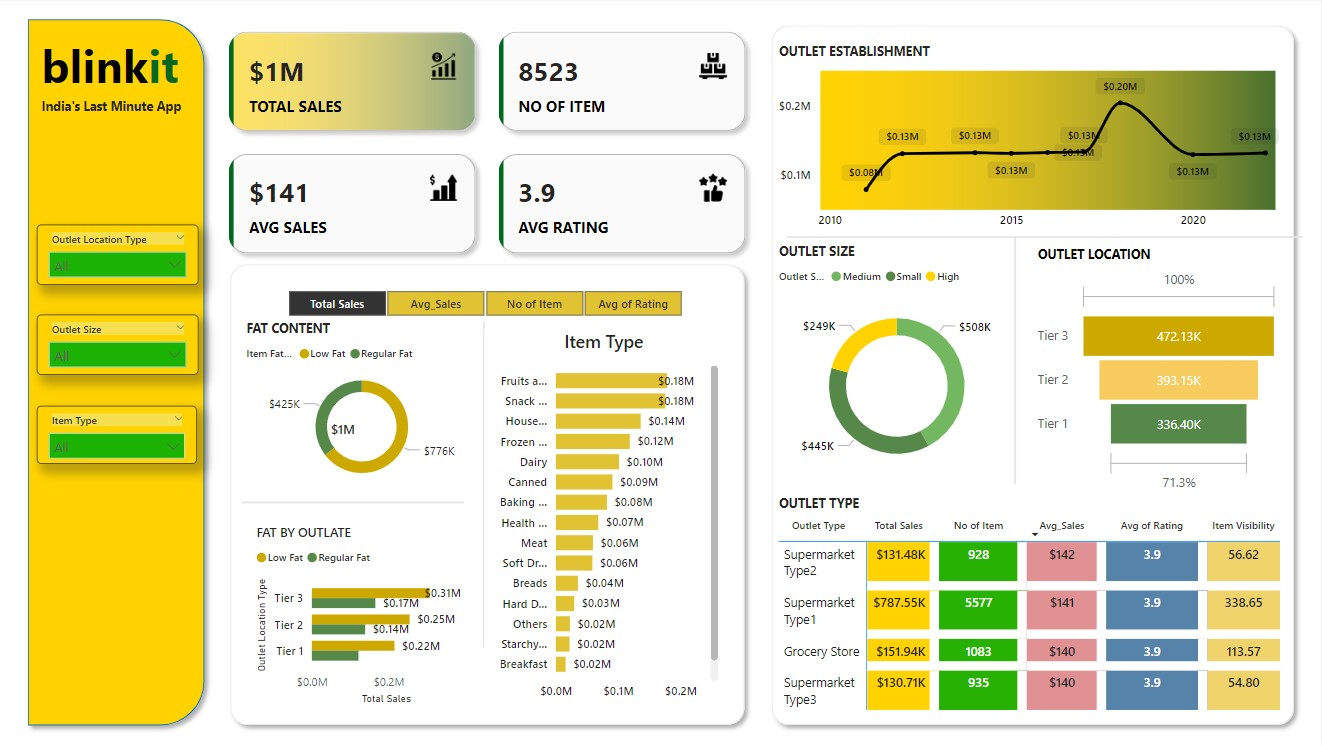

The dashboard page shown, as its layout file describes it:
{"tool":"powerbi","page":{"name":"Dashboard","canvas":[1400,800],"ordinal":0},"visuals":[{"type":"shape","box":[23,14.1,205,765.3],"z":0},{"type":"textbox","box":[41.4,34.3,187.1,134.3],"z":1000},{"type":"textbox","box":[41.4,101.4,171.4,37.1],"z":2000},{"type":"cardVisual","fields":{"Data":["BlinkIT Grocery Data.Total Sales","BlinkIT Grocery Data.No of Item","BlinkIT Grocery Data.Avg_Sales","BlinkIT Grocery Data.Avg of Rating"]},"box":[228,19.4,581.5,268.6],"z":3000},{"type":"shape","box":[236.8,273.9,562,505.5],"z":4000},{"type":"donutChart","title":"FAT CONTENT","fields":{"Y":["BlinkIT Grocery Data.Total Sales"],"Category":["BlinkIT Grocery Data.Item Fat Content"]},"box":[258,341.1,254.5,182],"z":5000},{"type":"slicer","fields":{"Values":["Metrics.Metrics"]},"box":[281.4,304.3,465.7,40],"z":6000},{"type":"cardVisual","fields":{"Data":["BlinkIT Grocery Data.Total Sales"]},"box":[322.9,431.1,84.3,38.2],"z":7000},{"type":"clusteredBarChart","title":"FAT BY OUTLATE","fields":{"Y":["BlinkIT Grocery Data.Total Sales"],"Category":["BlinkIT Grocery Data.Outlet Location Type"],"Series":["BlinkIT Grocery Data.Item Fat Content"]},"box":[268.6,556.7,243.9,196.2],"z":8000},{"type":"shape","box":[492.8,344.5,41.8,344.5],"z":9000},{"type":"shape","box":[809.4,21.2,570.9,758.2],"z":10000},{"type":"lineChart","title":"OUTLET ESTABLISHMENT","fields":{"Category":["BlinkIT Grocery Data.Outlet Establishment Year"],"Y":["BlinkIT Grocery Data.Total Sales"]},"box":[821.8,47.7,539,206.8],"z":11000},{"type":"shape","box":[258,519.6,235.1,30],"z":12000},{"type":"shape","box":[834.2,213.8,546.1,79.5],"z":13000},{"type":"donutChart","title":"OUTLET SIZE","fields":{"Category":["BlinkIT Grocery Data.Outlet Size"],"Y":["BlinkIT Grocery Data.Total Sales"]},"box":[821.8,259.8,259.8,259.8],"z":14000},{"type":"shape","box":[1056.9,254.5,38.9,261.6],"z":15000},{"type":"funnel","title":"OUTLET LOCATION","fields":{"Category":["BlinkIT Grocery Data.Outlet Location Type"],"Y":["Sum(BlinkIT Grocery Data.Sales)"]},"box":[1095.8,263.3,265.1,266.9],"z":16000},{"type":"pivotTable","title":"OUTLET TYPE","fields":{"Rows":["BlinkIT Grocery Data.Outlet Type"],"Values":["BlinkIT Grocery Data.Total Sales","BlinkIT Grocery Data.No of Item","BlinkIT Grocery Data.Avg_Sales","BlinkIT Grocery Data.Avg of Rating","Sum(BlinkIT Grocery Data.Item Visibility)"]},"box":[821.8,526.7,558.5,252.7],"z":17000},{"type":"clusteredBarChart","title":" Item Type","fields":{"Category":["BlinkIT Grocery Data.Item Type"],"Y":["BlinkIT Grocery Data.Total Sales"]},"box":[514.3,351.7,252.7,401.2],"z":18000},{"type":"slicer","fields":{"Values":["BlinkIT Grocery Data.Outlet Location Type"]},"box":[40.6,240.4,171.4,63.6],"z":19000},{"type":"slicer","fields":{"Values":["BlinkIT Grocery Data.Item Type"]},"box":[40.6,433,169.7,61.9],"z":20000},{"type":"slicer","fields":{"Values":["BlinkIT Grocery Data.Outlet Size"]},"box":[40.6,335.8,171.4,63.6],"z":21000}]}

Visuals, with their boxes in screenshot pixels (x1, y1, x2, y2), scaled from the page's 1400x800 canvas onto the 1322x745 screenshot:
shape: region(22, 13, 215, 726)
textbox: region(39, 32, 216, 157)
textbox: region(39, 94, 201, 129)
cardVisual - BlinkIT Grocery Data.Total Sales x BlinkIT Grocery Data.No of Item: region(215, 18, 764, 268)
shape: region(224, 255, 754, 726)
"FAT CONTENT" donutChart: region(244, 318, 484, 487)
slicer - Metrics.Metrics: region(266, 283, 705, 321)
cardVisual - BlinkIT Grocery Data.Total Sales: region(305, 401, 385, 437)
"FAT BY OUTLATE" clusteredBarChart: region(254, 518, 484, 701)
shape: region(465, 321, 505, 642)
shape: region(764, 20, 1303, 726)
"OUTLET ESTABLISHMENT" lineChart: region(776, 44, 1285, 237)
shape: region(244, 484, 466, 512)
shape: region(788, 199, 1303, 273)
"OUTLET SIZE" donutChart: region(776, 242, 1021, 484)
shape: region(998, 237, 1035, 481)
"OUTLET LOCATION" funnel: region(1035, 245, 1285, 494)
"OUTLET TYPE" pivotTable: region(776, 490, 1303, 726)
" Item Type" clusteredBarChart: region(486, 328, 724, 701)
slicer - BlinkIT Grocery Data.Outlet Location Type: region(38, 224, 200, 283)
slicer - BlinkIT Grocery Data.Item Type: region(38, 403, 199, 461)
slicer - BlinkIT Grocery Data.Outlet Size: region(38, 313, 200, 372)
